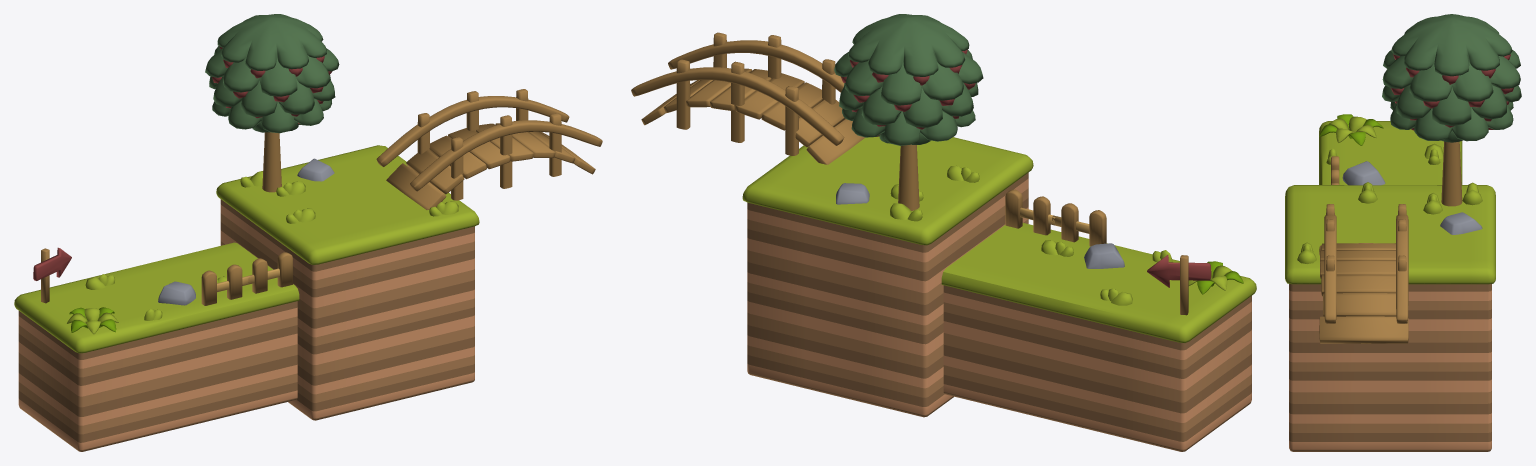
The model's file is Grass_3_015.gltf.
3 renders of one model, left to right at view 1: azimuth 30°, elevation 25°; view 2: azimuth 150°, elevation 25°; view 3: azimuth 270°, elevation 25°, orthographic. The views are drawn at different scales.
Visible parts, largest first — view 1: Grass_3.015; view 2: Grass_3.015; view 3: Grass_3.015.
Part boxes in pixels (x1=…): Grass_3.015: x1=14, y1=14, x2=602, y2=451; Grass_3.015: x1=631, y1=14, x2=1256, y2=451; Grass_3.015: x1=1285, y1=14, x2=1521, y2=451.
Size of the model in its own units: 19.41 by 11.97 by 7.
